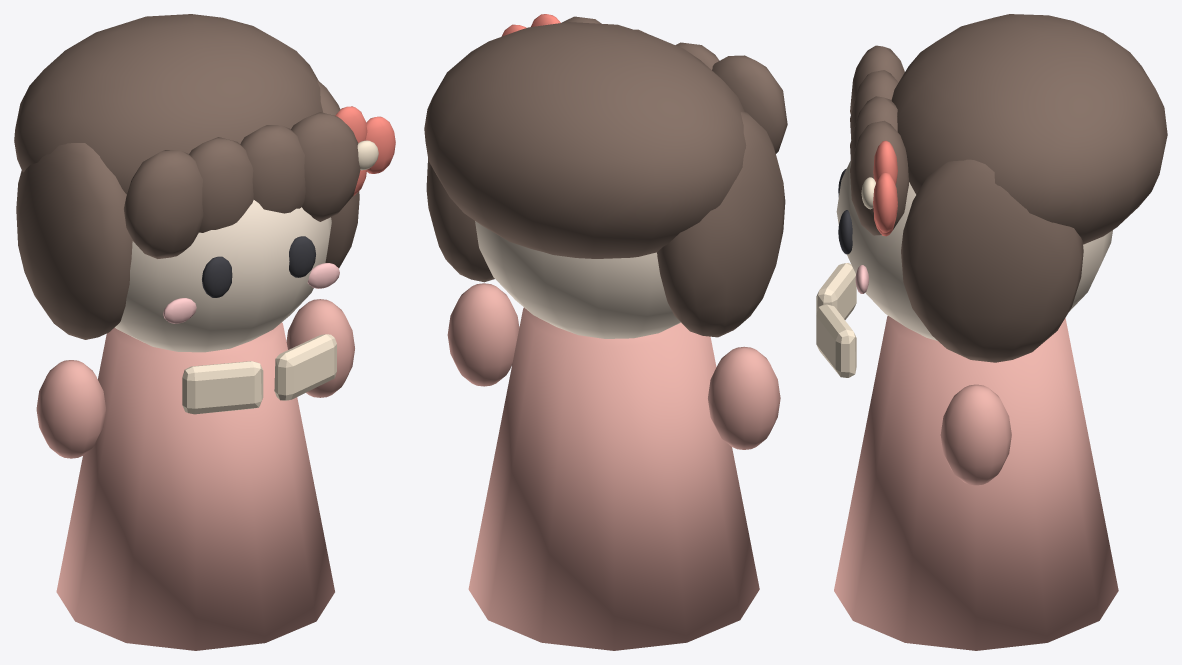
The model's file is customer_bob.glb.
3 views of the same model, side by side, from view 1: azimuth 30°, elevation 25°; view 2: azimuth 150°, elevation 25°; view 3: azimuth 270°, elevation 25° (orthographic). The views are drawn at different scales.
Parts seen in each view (by area): view 1: Hair, Body, Head, Collar, ArmL, ArmR, HairClipCoral, EyeL, EyeR, BlushL, BlushR; view 2: Hair, Body, Head, ArmL, ArmR; view 3: Hair, Body, Head, ArmR, Collar, HairClipCoral, EyeR.
Part boxes in pixels (x1=…): Hair: x1=14, y1=14, x2=360, y2=339; Body: x1=56, y1=322, x2=334, y2=650; Head: x1=114, y1=200, x2=331, y2=352; Collar: x1=182, y1=334, x2=336, y2=414; ArmL: x1=36, y1=360, x2=105, y2=458; ArmR: x1=286, y1=299, x2=354, y2=397; HairClipCoral: x1=335, y1=106, x2=395, y2=195; EyeL: x1=202, y1=256, x2=232, y2=297; EyeR: x1=289, y1=236, x2=315, y2=277; BlushL: x1=163, y1=298, x2=196, y2=323; BlushR: x1=307, y1=263, x2=339, y2=288; Hair: x1=424, y1=16, x2=787, y2=337; Body: x1=468, y1=307, x2=759, y2=650; Head: x1=475, y1=221, x2=680, y2=338; ArmL: x1=708, y1=346, x2=780, y2=449; ArmR: x1=447, y1=283, x2=519, y2=386; Hair: x1=850, y1=14, x2=1167, y2=362; Body: x1=834, y1=316, x2=1118, y2=650; Head: x1=836, y1=160, x2=1112, y2=340; ArmR: x1=940, y1=384, x2=1011, y2=485; Collar: x1=816, y1=263, x2=856, y2=377; HairClipCoral: x1=873, y1=140, x2=897, y2=236; EyeR: x1=838, y1=210, x2=852, y2=254.
Size of the model in its own units: 0.41 by 0.6869 by 0.3947.
